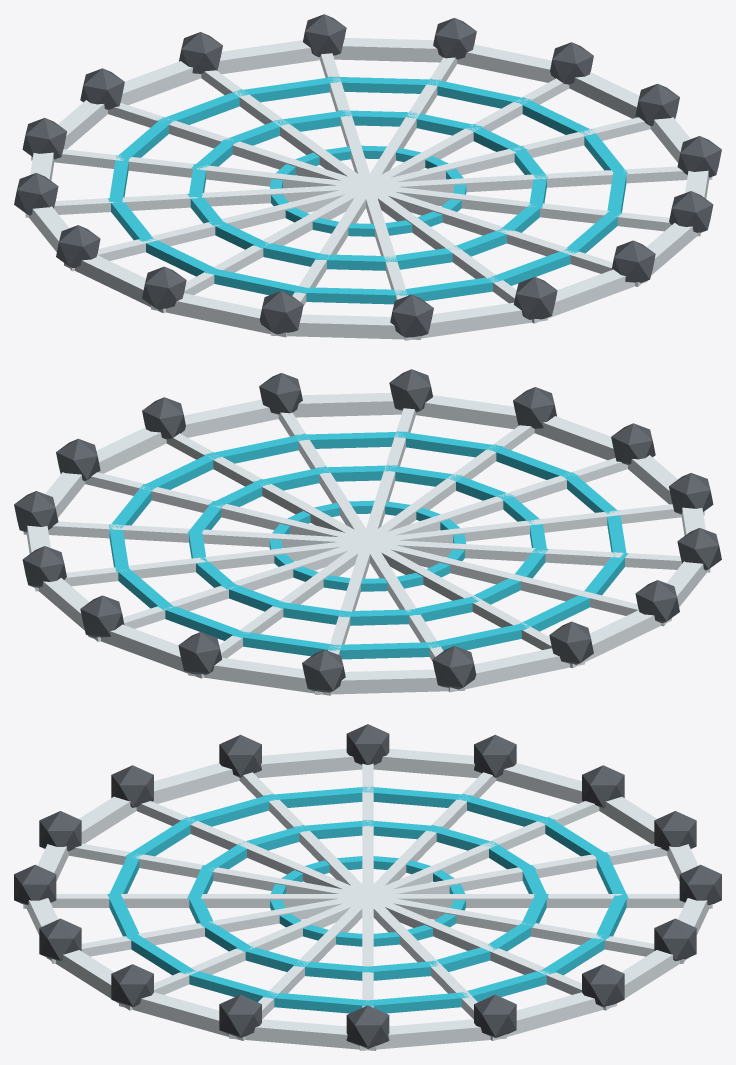
File: WP_CastNet.fbx
3 renders of one model, top to bottom at view 1: azimuth 30°, elevation 25°; view 2: azimuth 150°, elevation 25°; view 3: azimuth 270°, elevation 25°, orthographic.
Visible parts, largest first — view 1: WP_CastNet; view 2: WP_CastNet; view 3: WP_CastNet.
Part boxes in pixels (x1,y1,x2,y2): WP_CastNet: [14, 14, 721, 340]; WP_CastNet: [14, 369, 721, 695]; WP_CastNet: [14, 724, 721, 1050].
Size of the model in its own units: 2.13 by 2.13 by 0.15.
